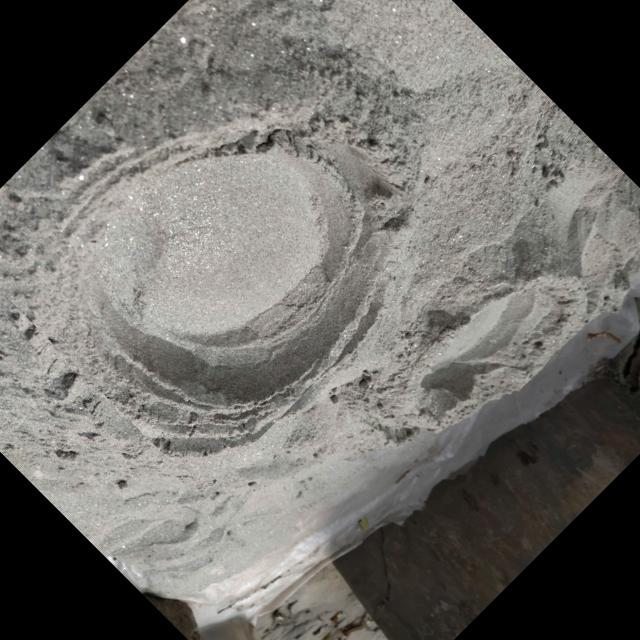C20: (54, 128, 386, 446), (386, 268, 593, 429)
